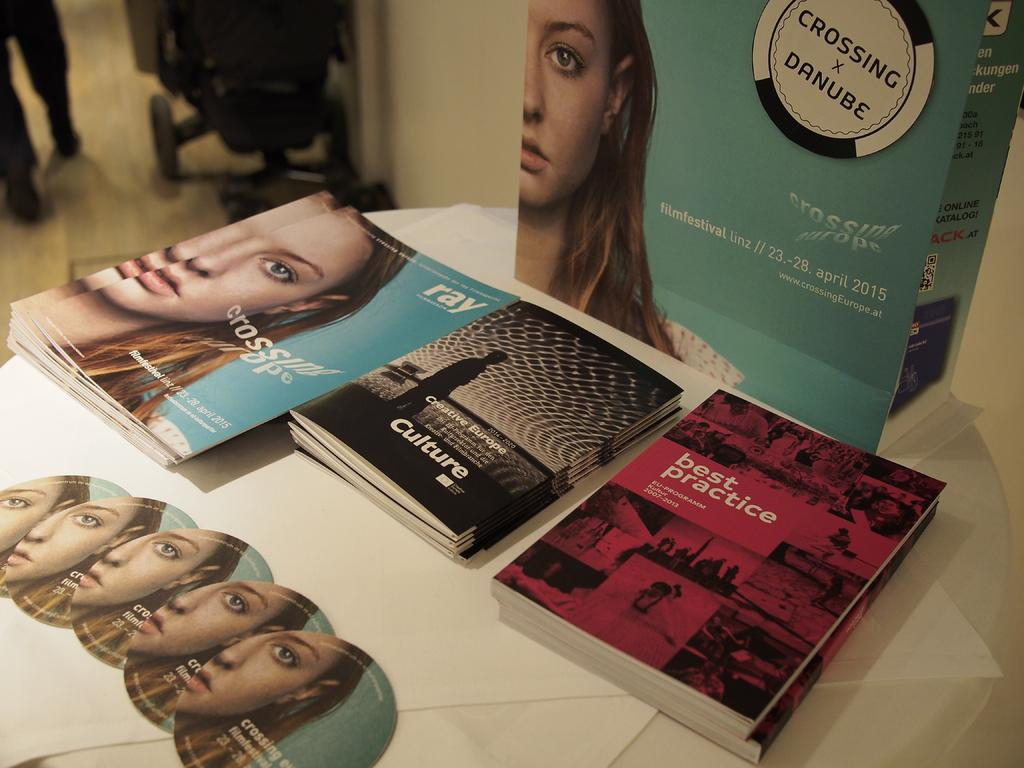Book: (490, 384, 942, 739), (4, 179, 521, 474), (493, 504, 948, 767), (279, 301, 687, 563)
